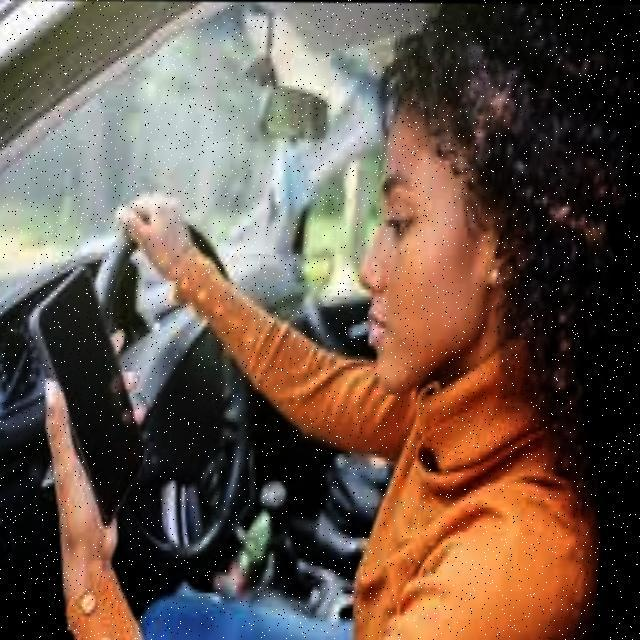noSeatbelt: (298, 316, 622, 640)
